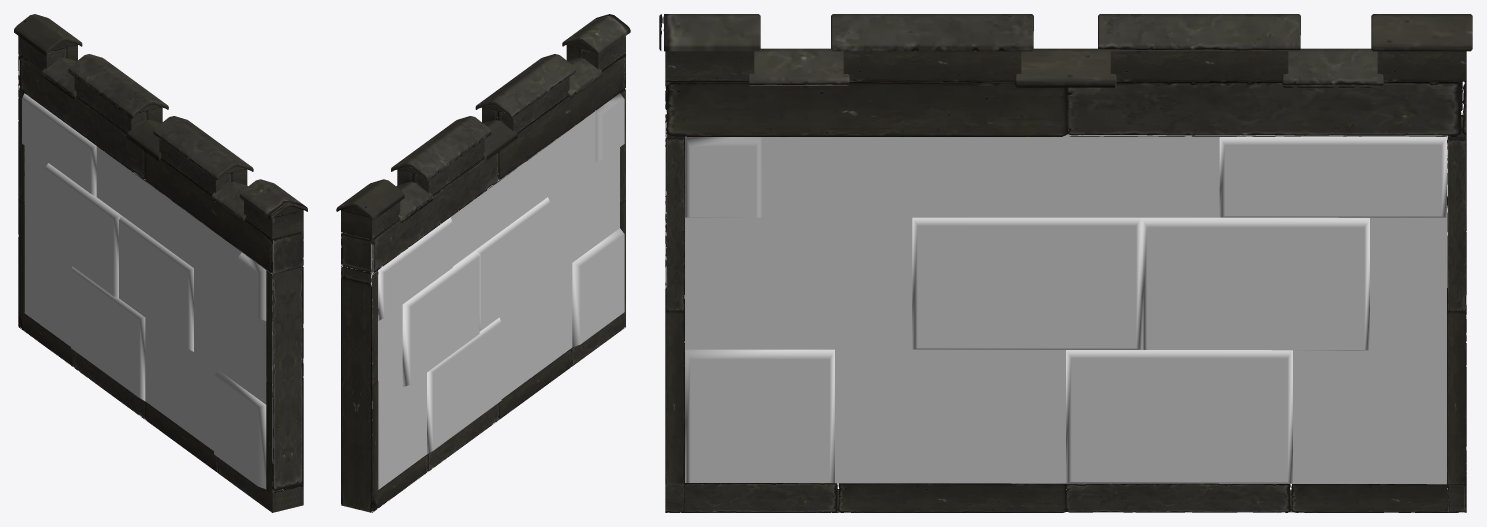
3 renders of one model, left to right at view 1: azimuth 30°, elevation 25°; view 2: azimuth 150°, elevation 25°; view 3: azimuth 270°, elevation 25°, orthographic. The views are drawn at different scales.
Visible parts, largest first — view 1: SM_Greathall_Wall_Top_8x6_04_LOD0; view 2: SM_Greathall_Wall_Top_8x6_04_LOD0; view 3: SM_Greathall_Wall_Top_8x6_04_LOD0.
Part boxes in pixels (x1,y1,x2,y2): SM_Greathall_Wall_Top_8x6_04_LOD0: [14, 14, 307, 512]; SM_Greathall_Wall_Top_8x6_04_LOD0: [336, 14, 630, 512]; SM_Greathall_Wall_Top_8x6_04_LOD0: [659, 14, 1472, 512].
Bounding box in the file's own units: 0.7191 × 4.81 × 7.31.
Materials: 2 (1 with a texture image).
